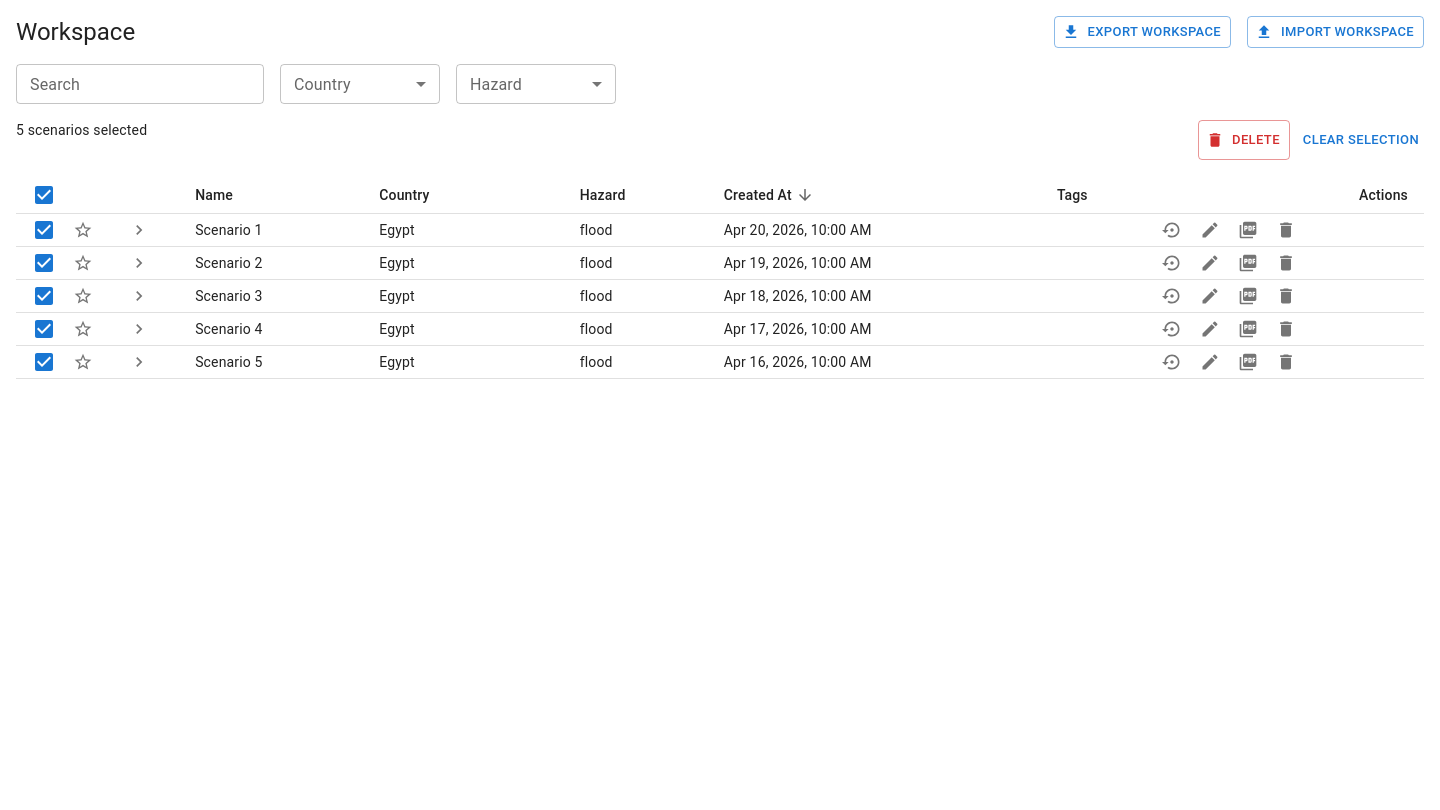
Test: Workspace bulk delete › lists scenario names in the confirm dialog when count <= 5
Click the button with aria-label "bulk-delete-open".
click(1244, 140)  # box [1198,120,1290,160]
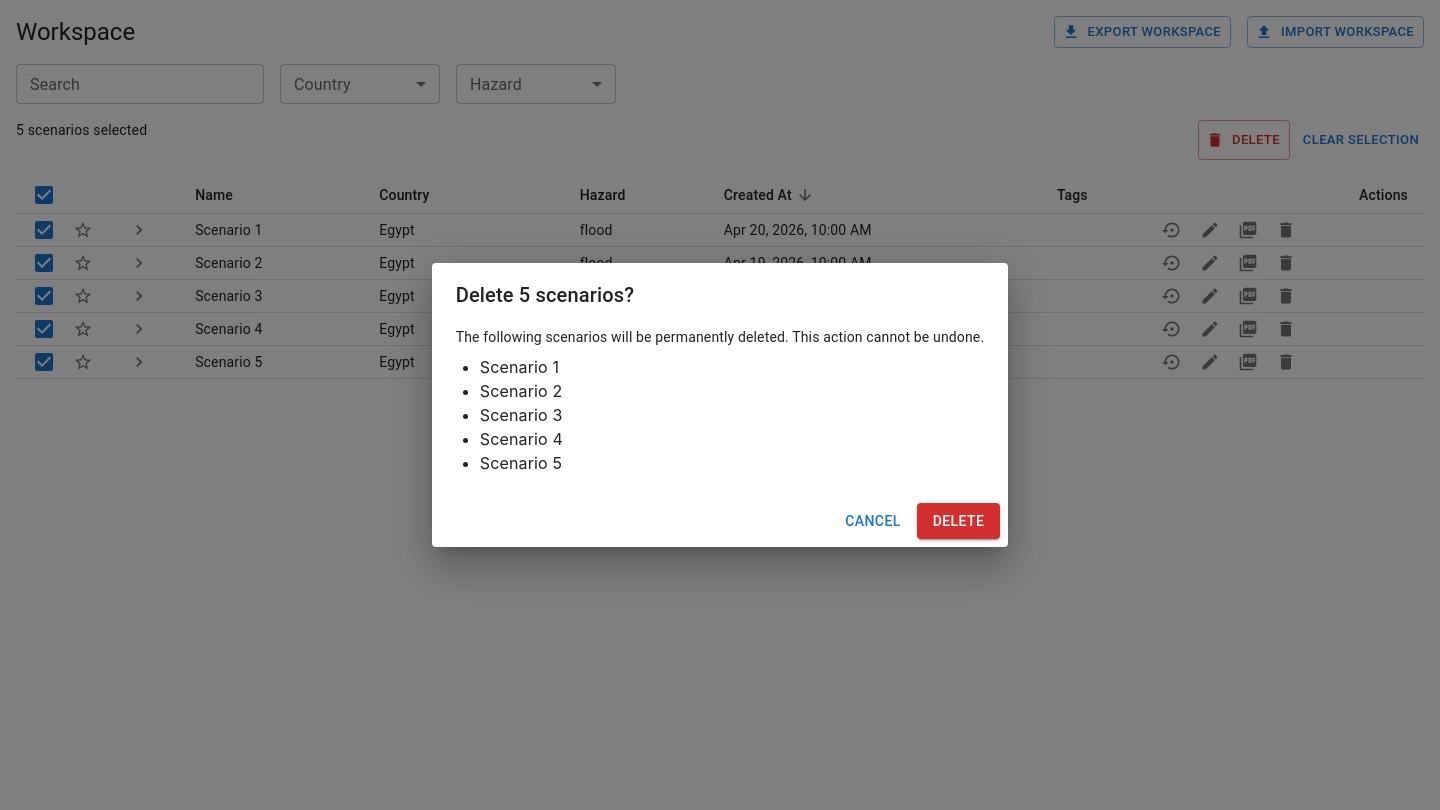
Expected: the heading "Delete 5 scenarios?" is shown, [456,283,634,307]
Expected: the list item "Scenario 1" is shown, [480,357,559,377]
Expected: the list item "Scenario 2" is shown, [480,381,562,401]
